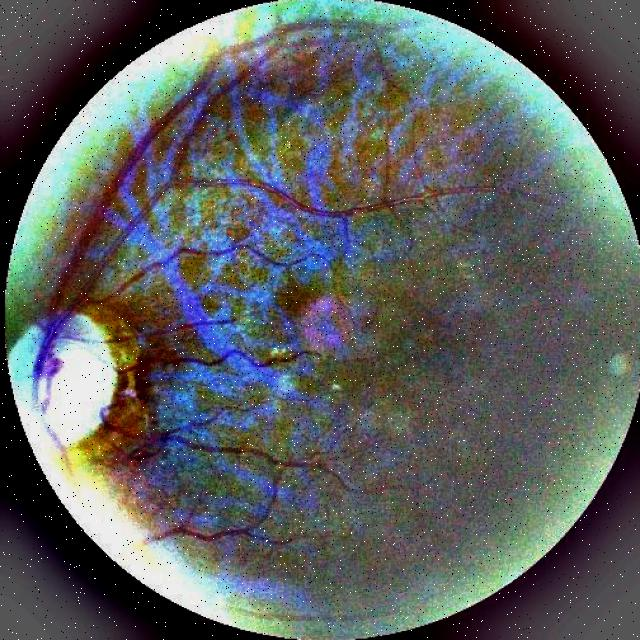Macula: (274, 271, 365, 356)
Nerves: (34, 81, 202, 469), (113, 350, 198, 381), (122, 430, 178, 465), (93, 382, 130, 433)
Optic Disk: (16, 310, 108, 449)
